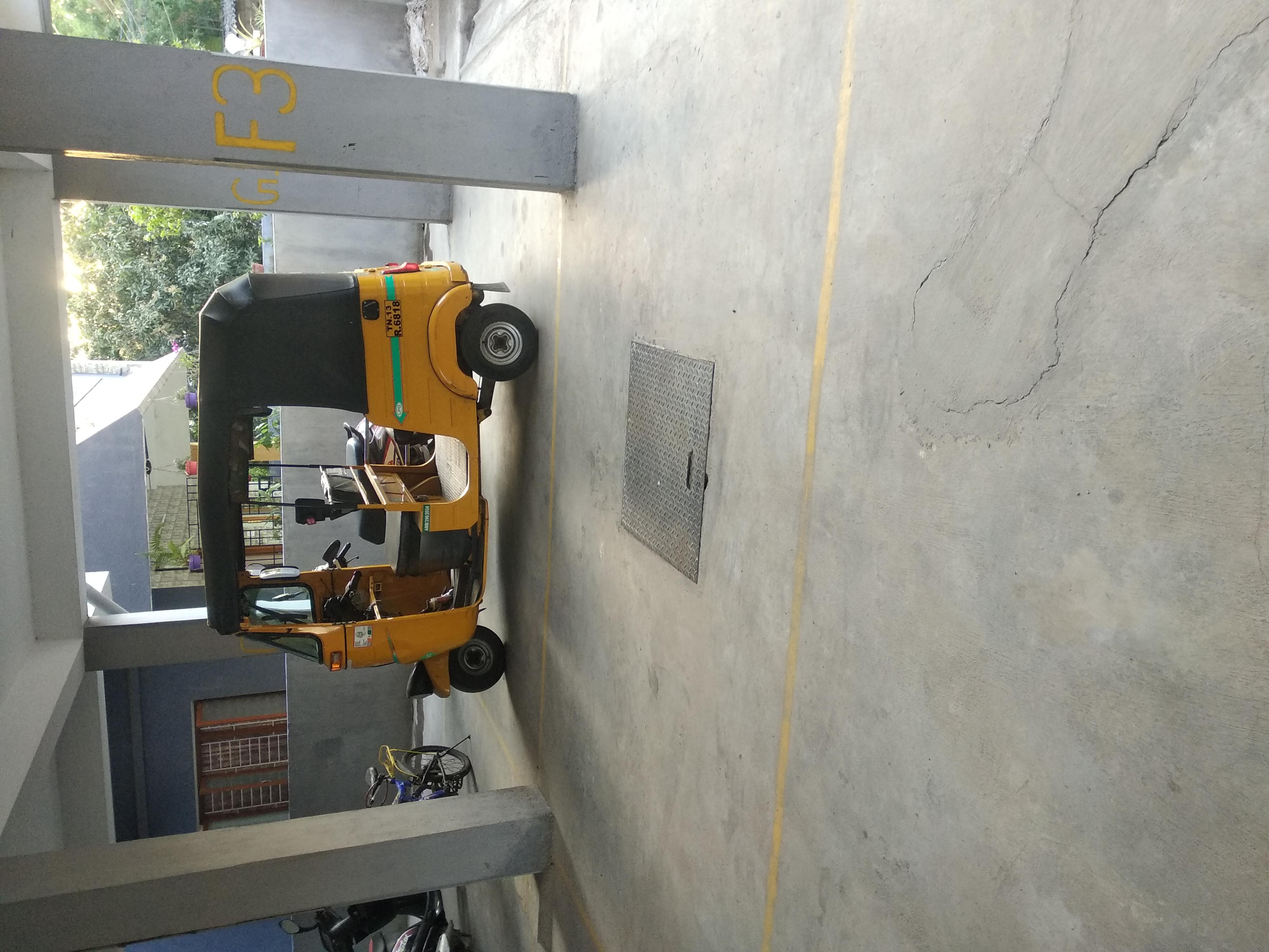Auto: (307, 134, 956, 408)
